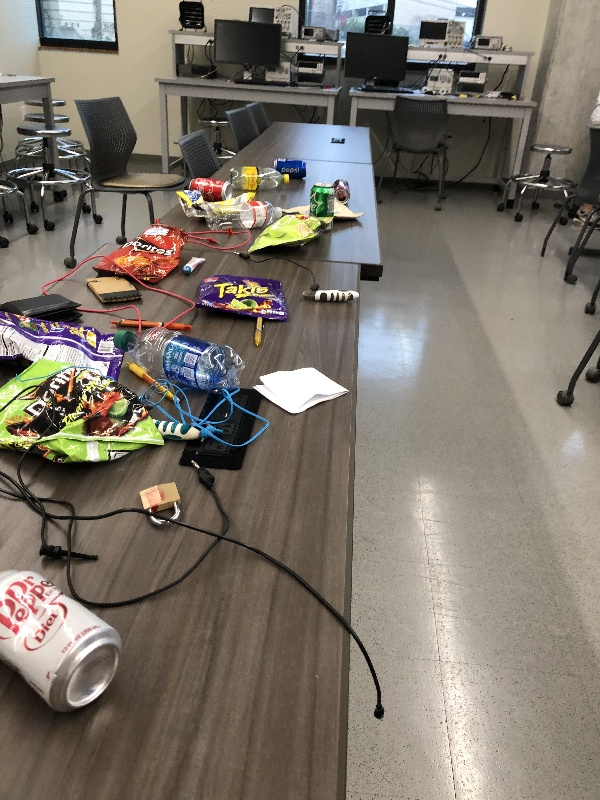bag: (1, 357, 168, 469), (1, 309, 133, 375), (90, 220, 196, 287), (191, 271, 294, 325), (244, 211, 329, 255), (174, 188, 259, 222), (280, 194, 368, 222)
bottle: (111, 322, 246, 397), (206, 198, 283, 236), (228, 166, 293, 193)
can: (1, 563, 125, 715), (185, 176, 231, 203), (309, 181, 336, 217), (272, 157, 310, 181), (330, 177, 352, 205)
